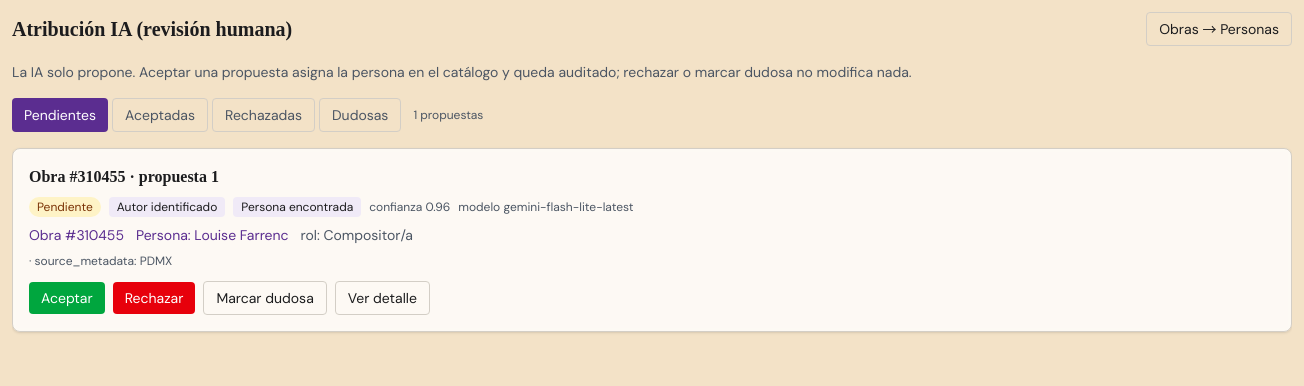
Test case: AdminWorkPersonAiPage › si la IA no está configurada muestra un mensaje claro
The width and height of the screenshot is (1304, 386).
Click the button "Aceptar" at (67, 298), box [29,282,105,314]
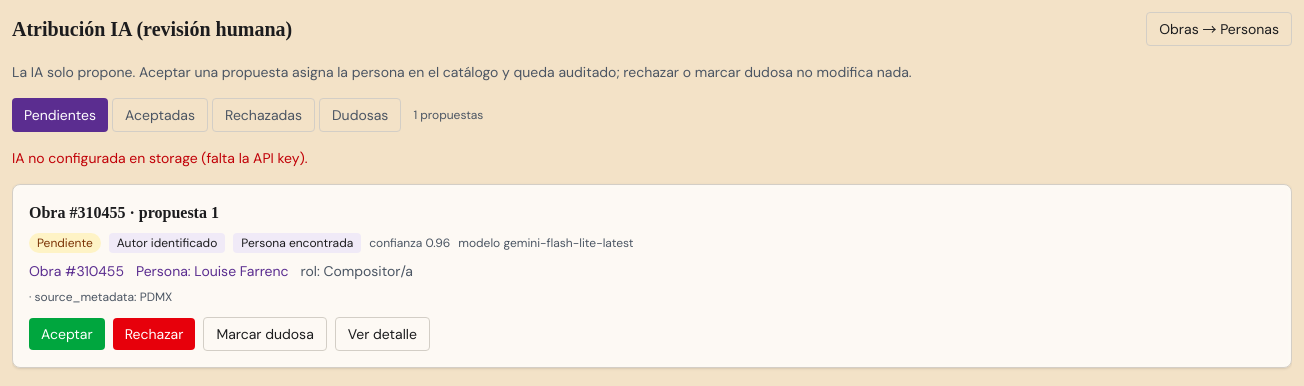
Expected: the text "IA no configurada en storage (falta la API key)." is shown, [12,149,308,167]
